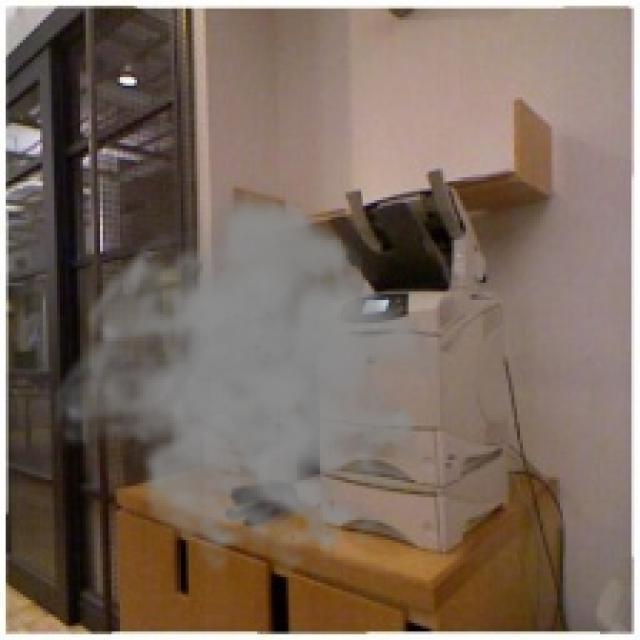Smoke: (46, 186, 457, 574)
